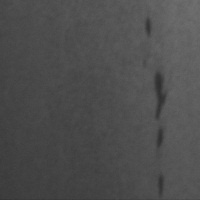inclusion: (149, 69, 171, 122), (152, 124, 169, 152), (140, 15, 158, 40), (154, 171, 166, 199)
